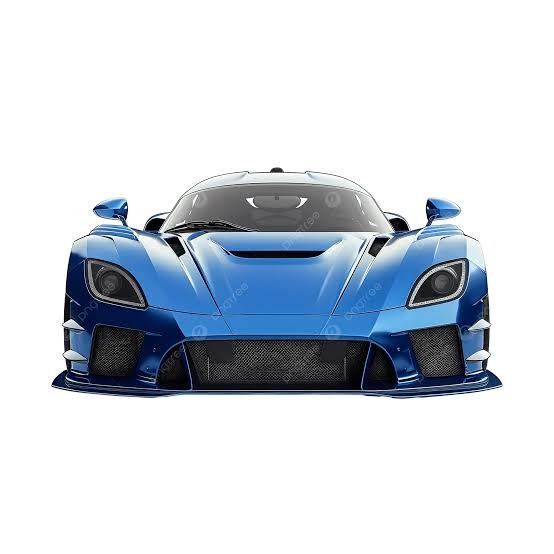car: (53, 174, 512, 410), (55, 177, 516, 404)
